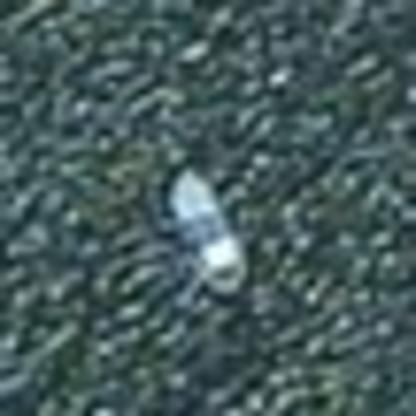ship: (154, 158, 270, 307)
